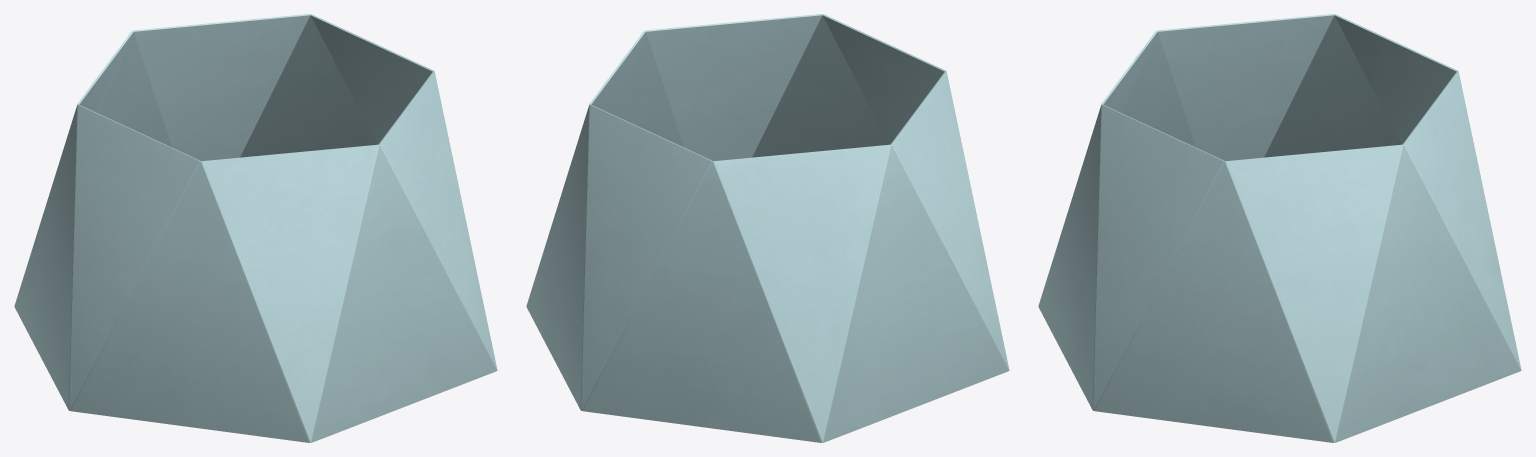
Rendered from studyroom_17.obj.
3 renders of one model, left to right at view 1: azimuth 30°, elevation 25°; view 2: azimuth 150°, elevation 25°; view 3: azimuth 270°, elevation 25°, orthographic.
Size of the model in its own units: 0.6797 by 0.3808 by 0.664.
